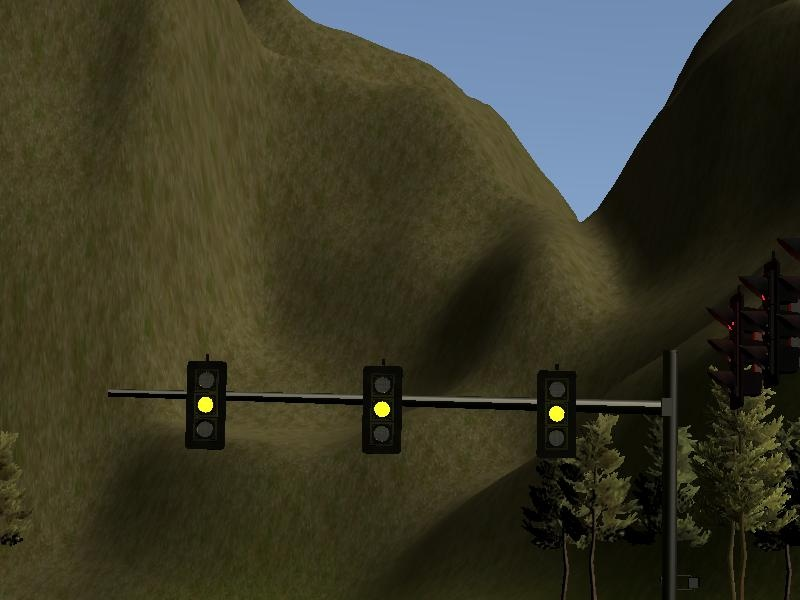yellow: (357, 357, 407, 459), (532, 363, 581, 466), (181, 354, 229, 454)
